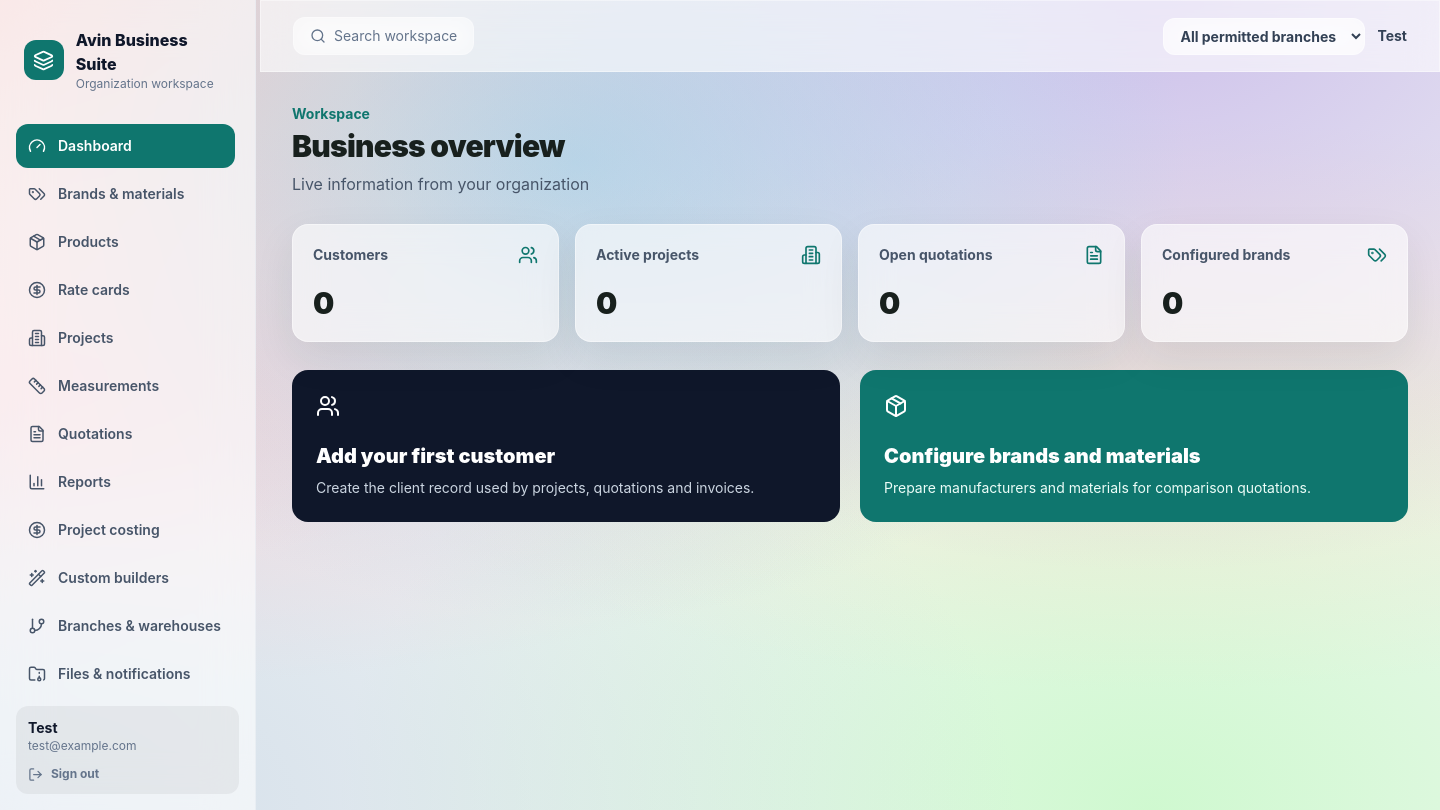
Test: workspace save flows › retains entered values and shows the server error when saving fails
The image size is (1440, 810).
Click the button "Products" at point(126, 242), box [16,220,235,264]
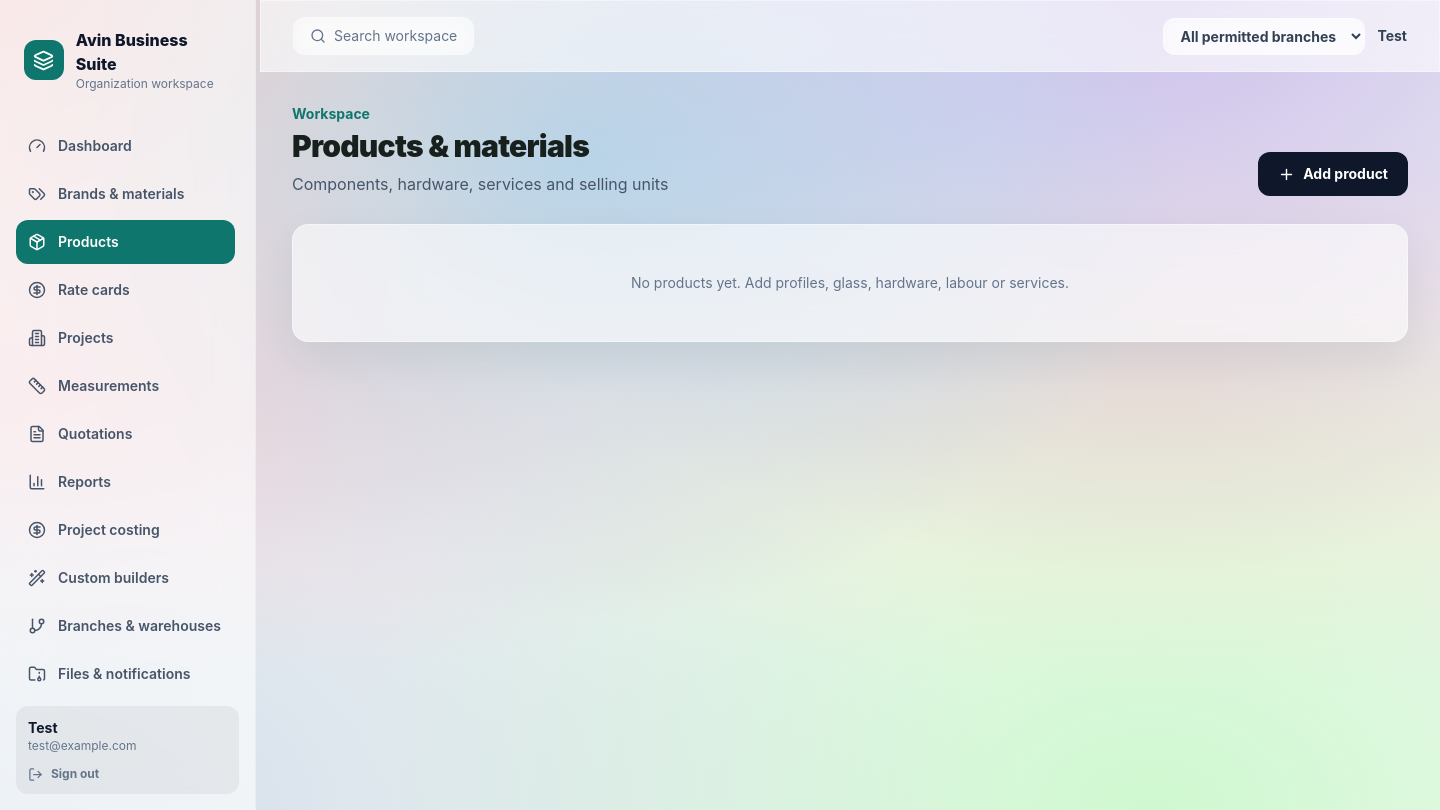
Expected: the button "Add product" is shown
Click the button "Add product" at point(1333, 174), box [1258,152,1408,196]
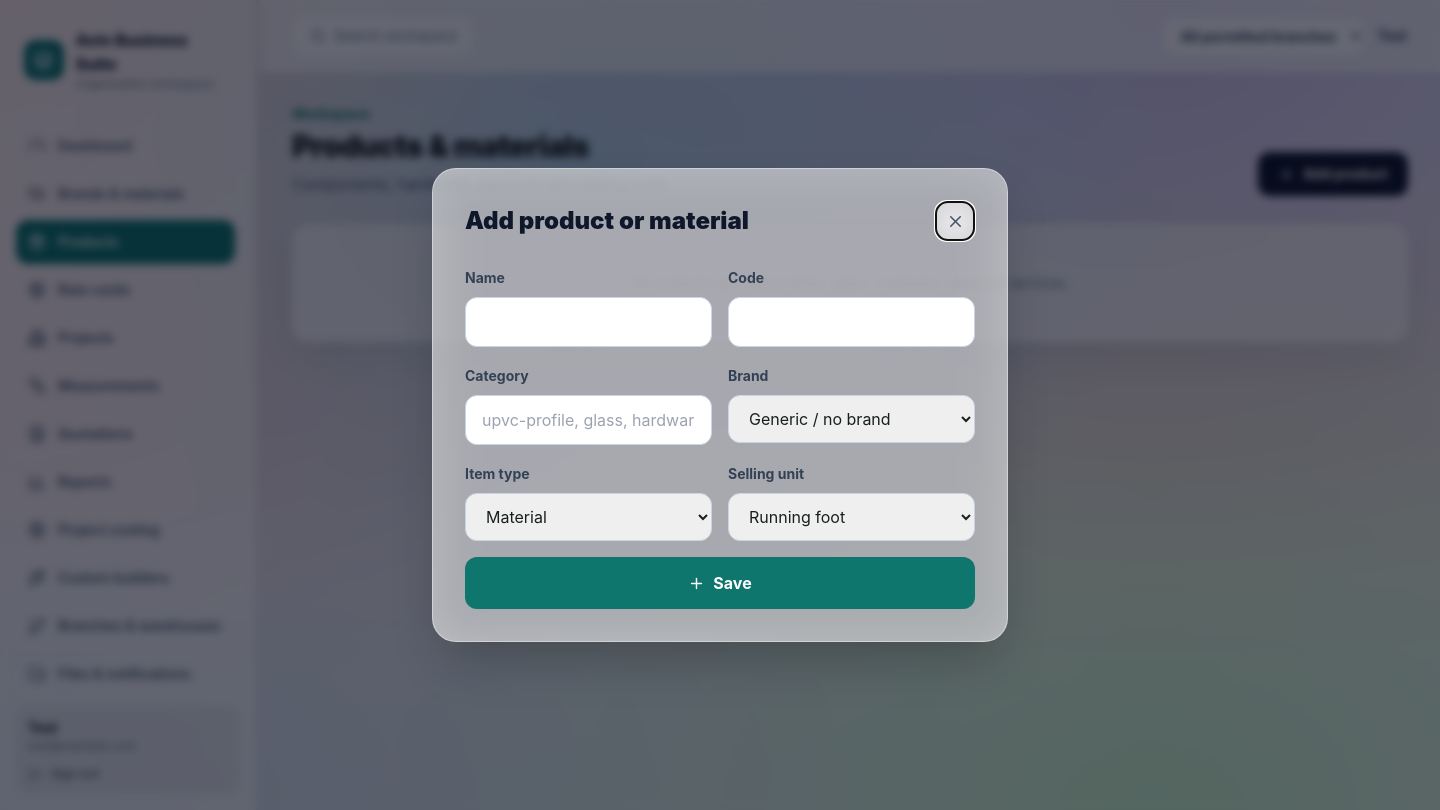
Type "Test material" into the field labelled "Name" at point(588, 322), box [465,297,712,347]
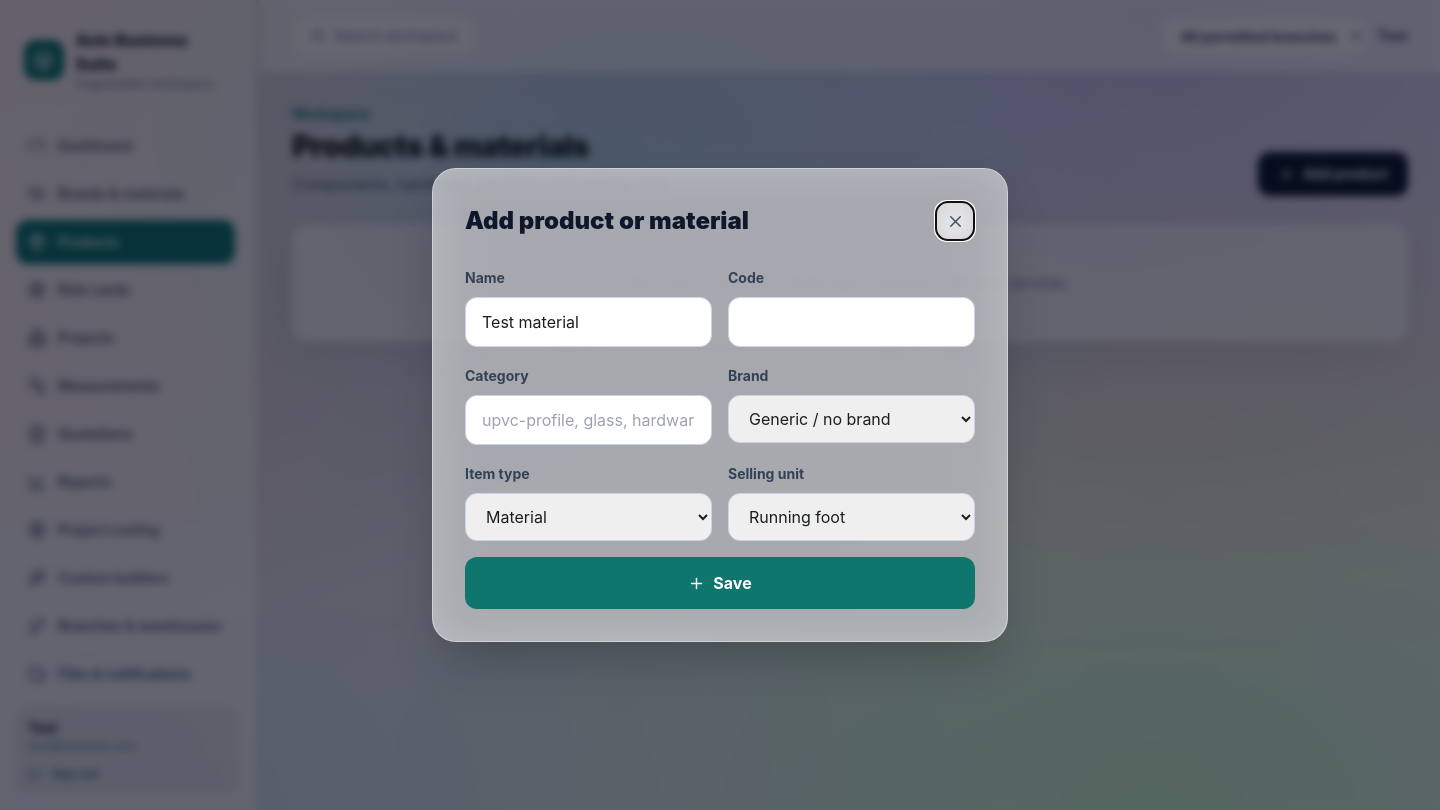
Type "TEST-01" into the field labelled "Code" at point(852, 322), box [728,297,975,347]
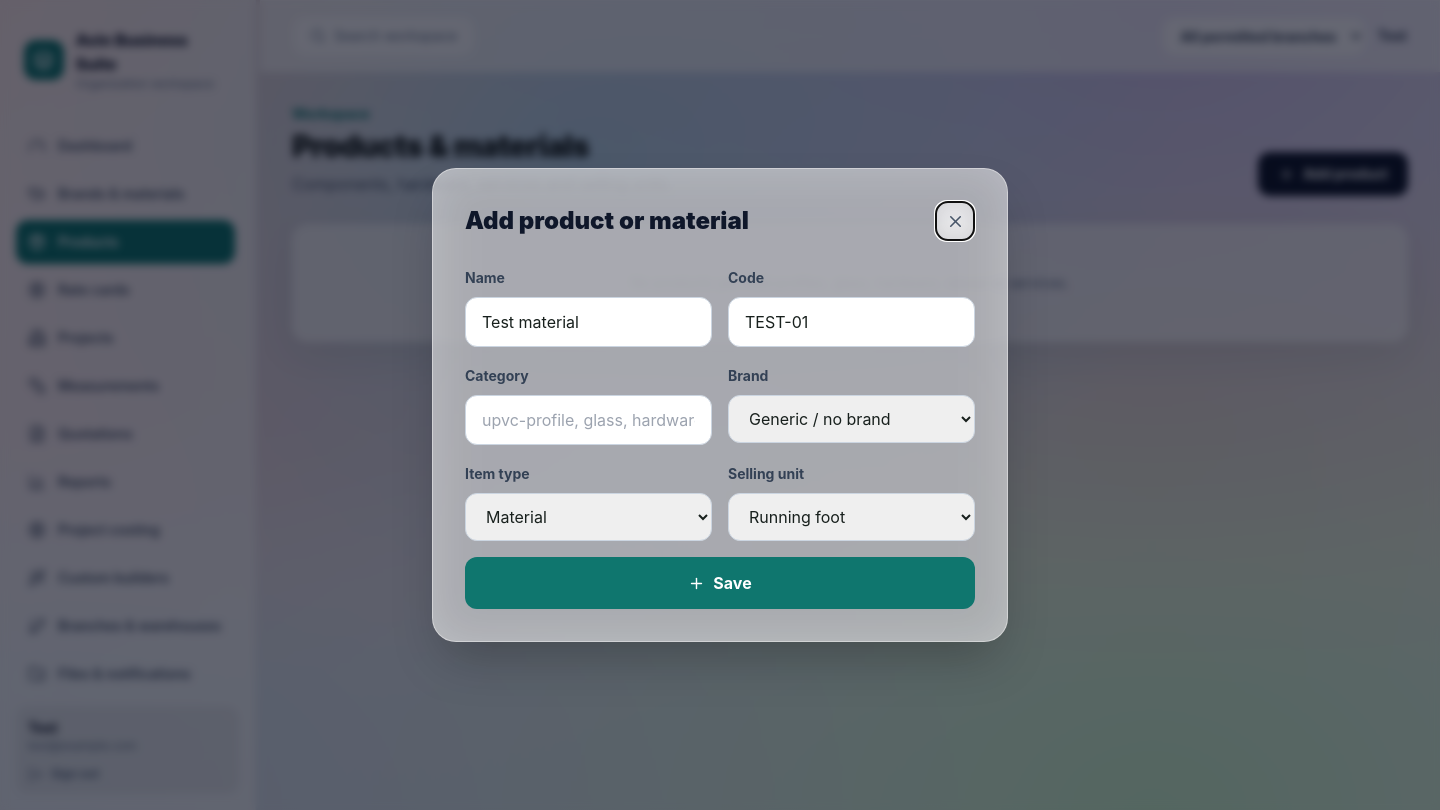
Type "hardware" into the field labelled "Category" at point(588, 420), box [465,395,712,445]
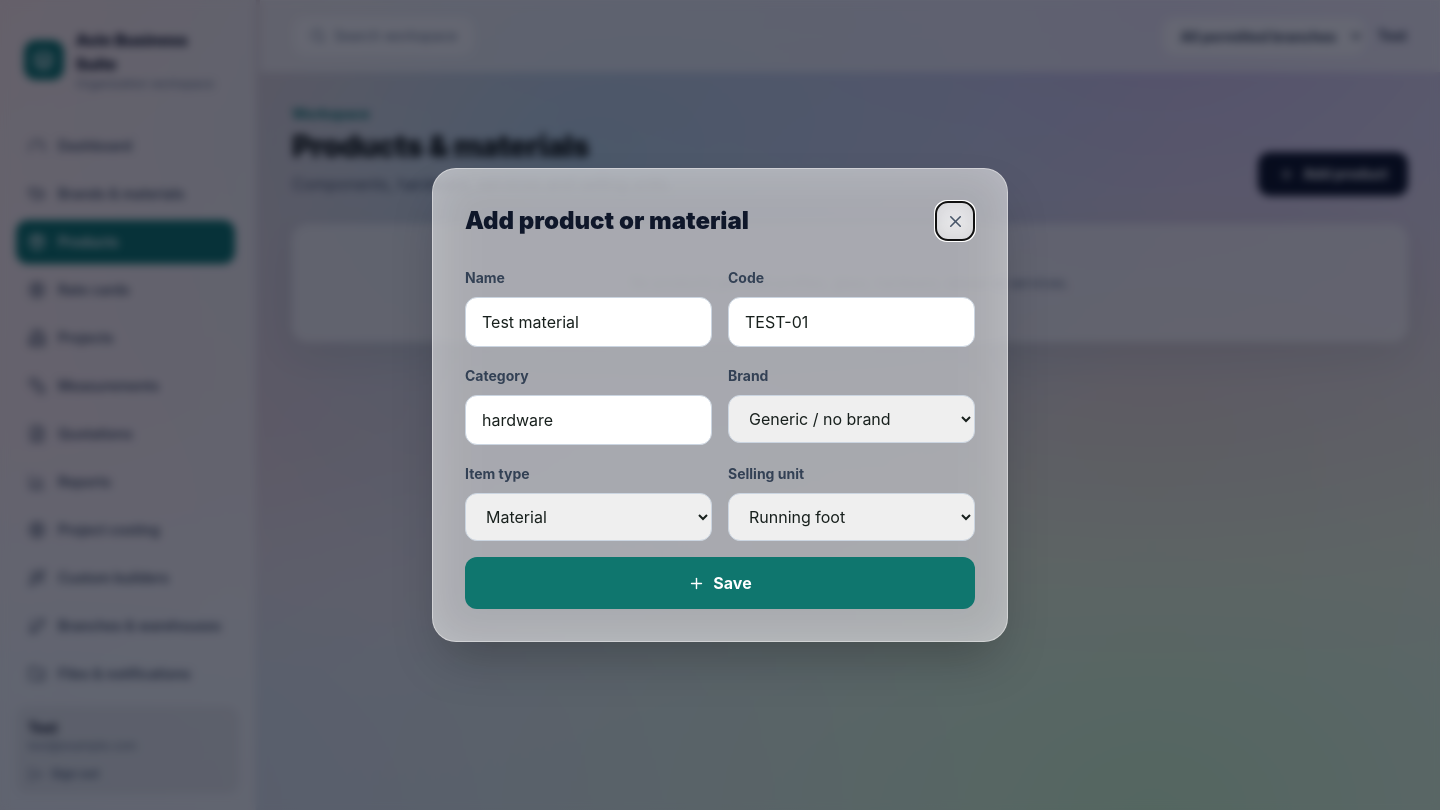
Submit the form, box [465,265,975,609]
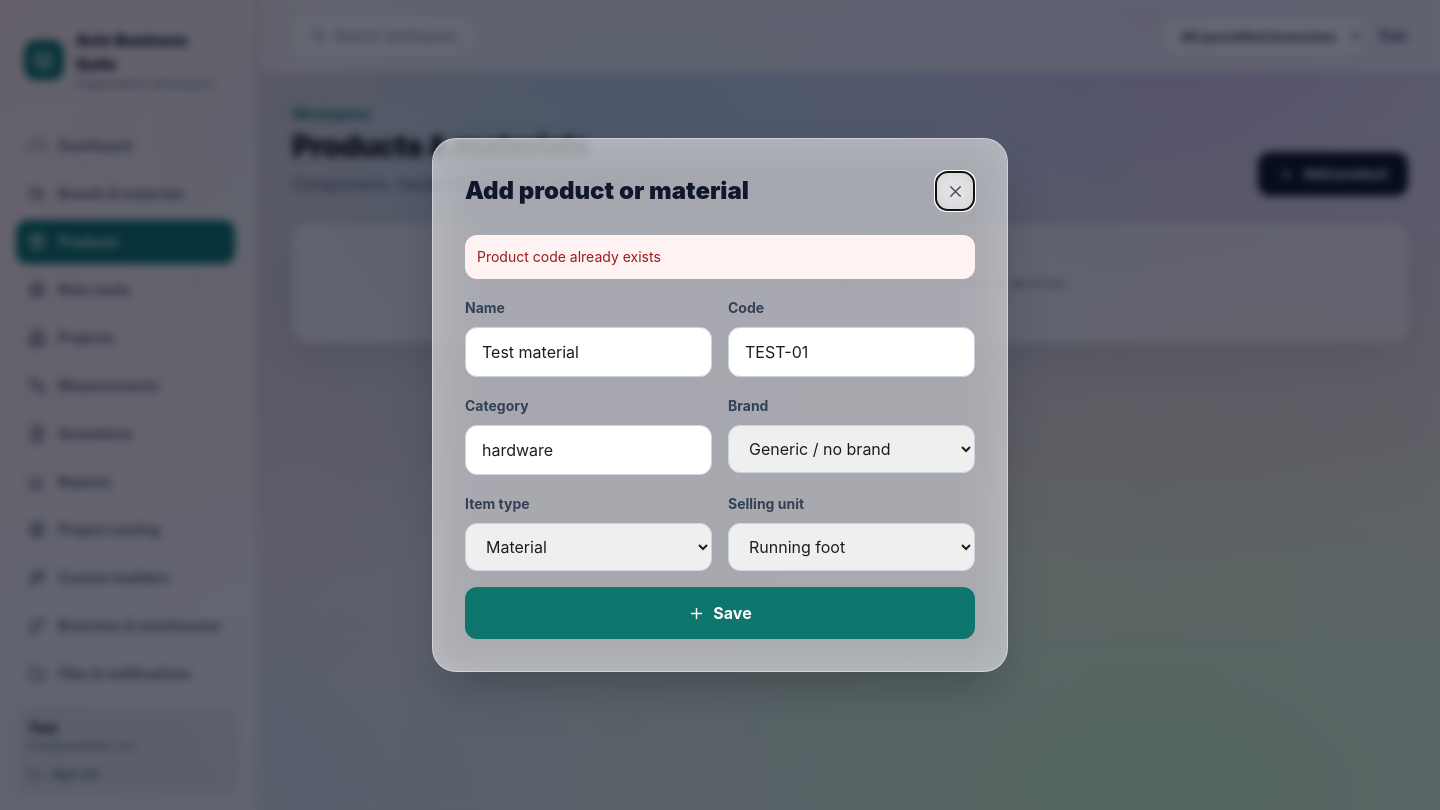
Expected: the element showing "Name Code Category Brand Item type Selling unit Save" is enabled, [465,295,975,639]
Expected: the message "Product code already exists" is shown, [465,235,975,279]
